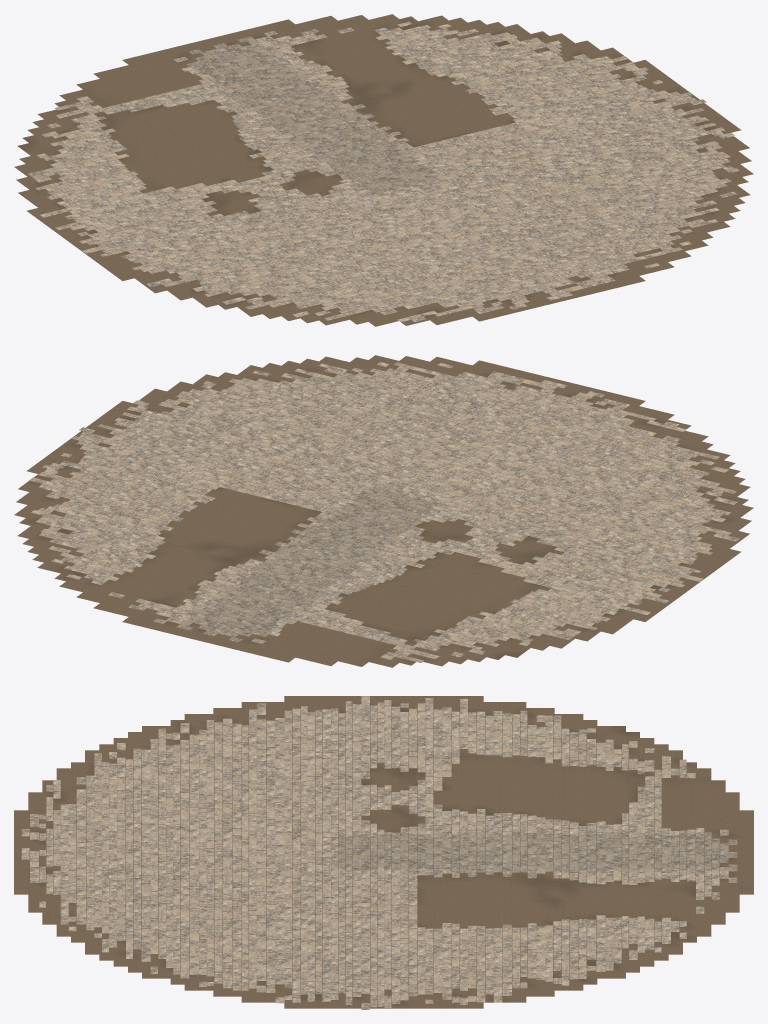
The picture shows the model from 3 angles, top to bottom: view 1: azimuth 30°, elevation 25°; view 2: azimuth 150°, elevation 25°; view 3: azimuth 270°, elevation 25°; orthographic projection. The views are drawn at different scales.
Parts seen in each view (by area): view 1: bed, slab_a, slab_c, slab_b, slab_d; view 2: bed, slab_a, slab_c, slab_b, slab_d; view 3: bed, slab_a, slab_c, slab_b, slab_d.
Boxes of the visible parts, x1=… form: bed: x1=14, y1=14, x2=753, y2=326; slab_a: x1=35, y1=21, x2=736, y2=318; slab_c: x1=40, y1=27, x2=730, y2=321; slab_b: x1=28, y1=27, x2=739, y2=320; slab_d: x1=186, y1=36, x2=439, y2=196; bed: x1=14, y1=355, x2=753, y2=667; slab_a: x1=29, y1=362, x2=737, y2=657; slab_c: x1=31, y1=362, x2=726, y2=658; slab_b: x1=35, y1=374, x2=739, y2=662; slab_d: x1=176, y1=488, x2=447, y2=642; bed: x1=14, y1=696, x2=753, y2=1008; slab_a: x1=21, y1=696, x2=728, y2=1009; slab_c: x1=30, y1=699, x2=719, y2=1003; slab_b: x1=21, y1=698, x2=737, y2=1007; slab_d: x1=338, y1=830, x2=737, y2=873.
Size of the model in its own units: 52.21 by 0.024 by 52.
Materials: 5 (5 with a texture image).
